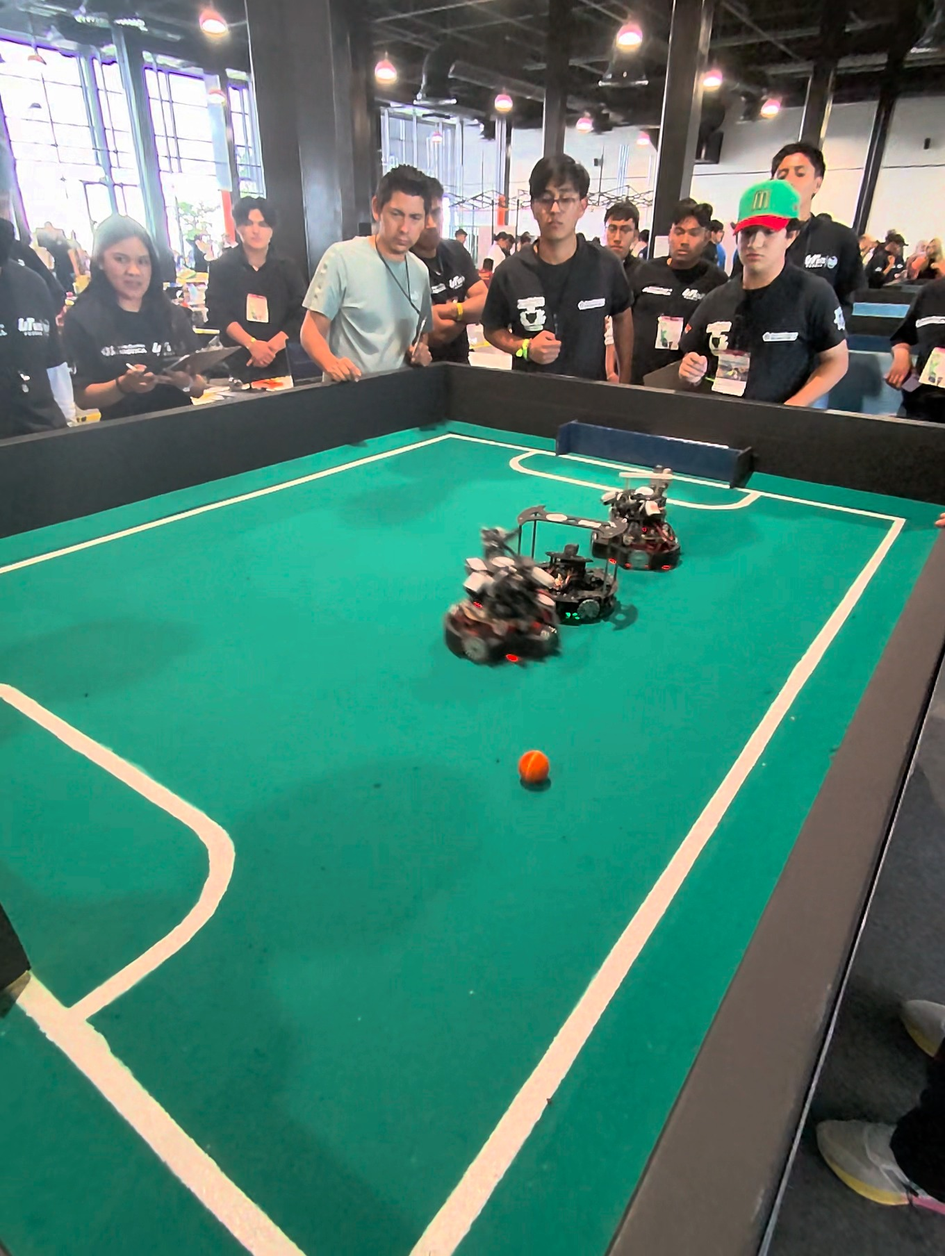Robot: (445, 514, 561, 680), (589, 471, 681, 582), (539, 527, 619, 628)
pelota: (519, 753, 551, 787)
